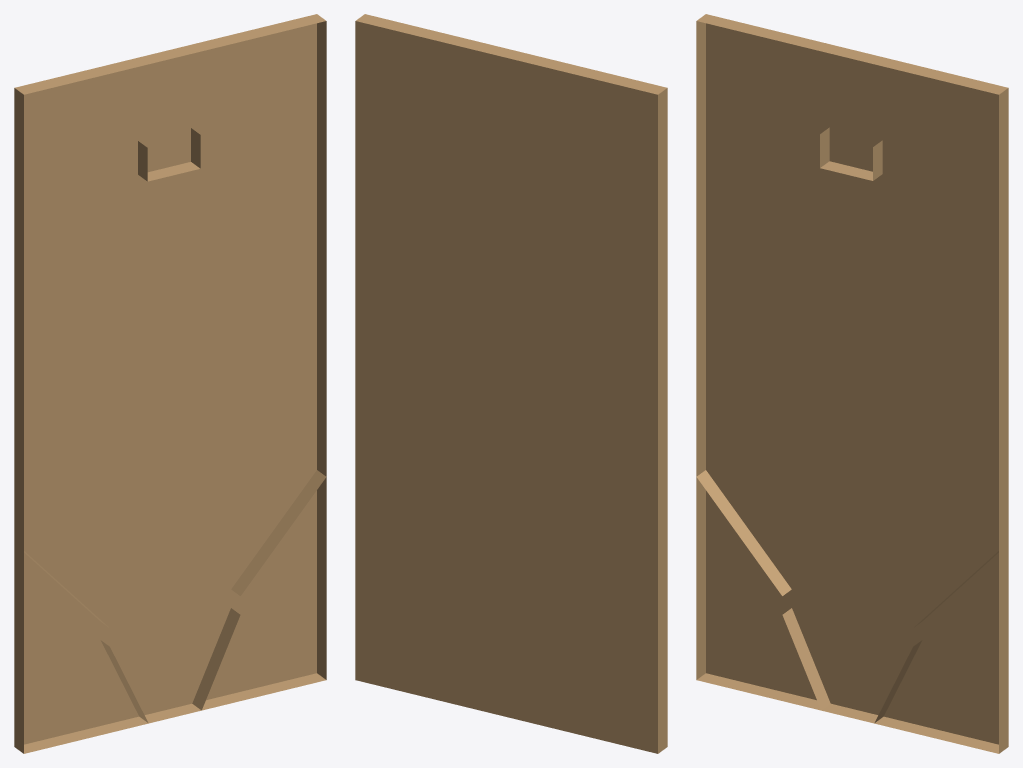
File: playfield.glb
The picture shows the model from 3 angles, left to right: view 1: azimuth 30°, elevation 25°; view 2: azimuth 150°, elevation 25°; view 3: azimuth 330°, elevation 25°; orthographic projection.
Visible parts, largest first — view 1: floor, walls[0], walls[2], walls[4], walls[5]; view 2: floor, walls[0]; view 3: floor, walls[0], walls[1], walls[3], walls[5].
Part boxes in pixels (x1,y1,x2,y2): floor: (24, 23, 316, 744); walls[0]: (14, 14, 326, 753); walls[2]: (231, 470, 326, 595); walls[4]: (192, 608, 240, 710); walls[5]: (138, 128, 200, 181); floor: (355, 21, 657, 753); walls[0]: (356, 14, 667, 753); floor: (706, 23, 998, 744); walls[0]: (696, 14, 1008, 753); walls[1]: (696, 470, 791, 595); walls[3]: (782, 608, 830, 710); walls[5]: (820, 127, 882, 180).
Bounding box in the file's own units: 0.514 × 1.07 × 0.028.
